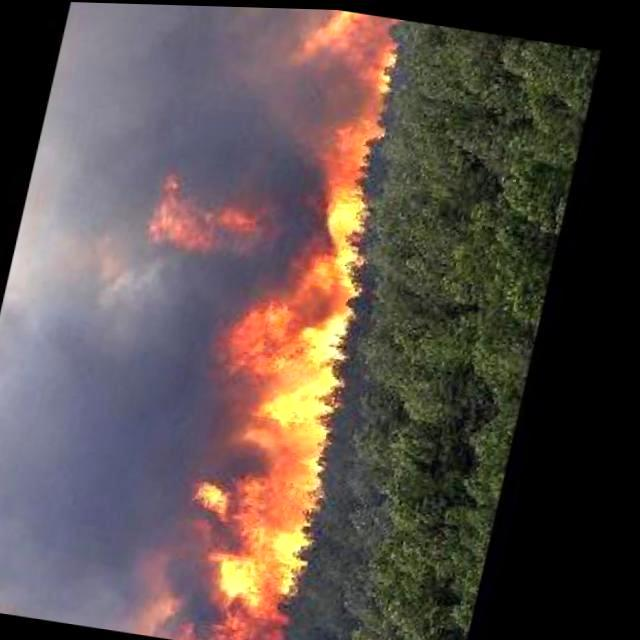fire: (158, 86, 410, 640), (277, 7, 409, 88)
